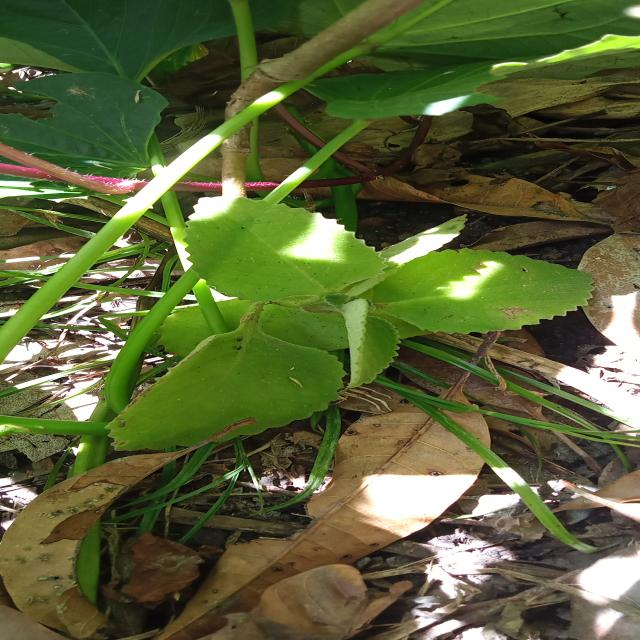Oregano: (70, 183, 596, 462)
